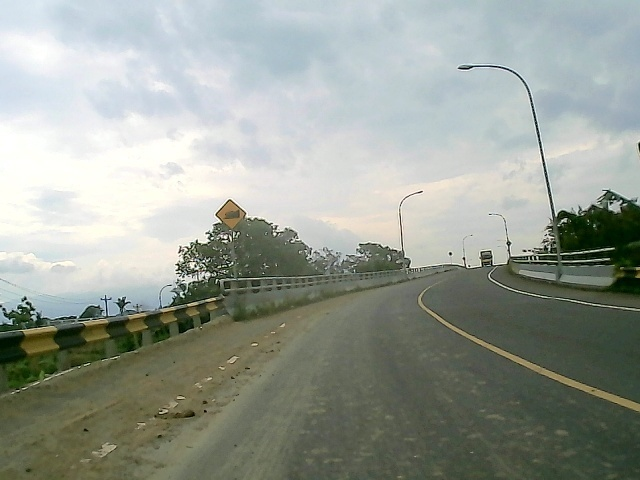Jalanan menanjak: (211, 199, 250, 234)
